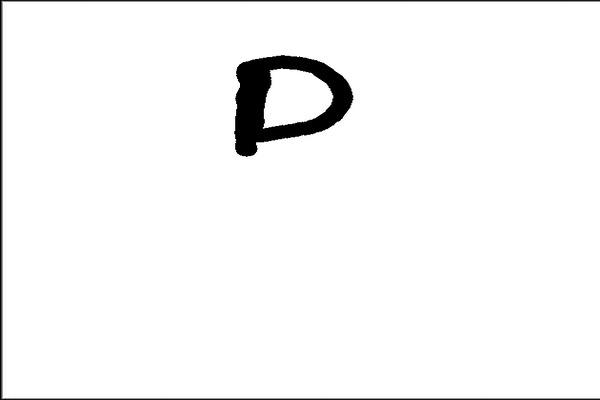D: (226, 49, 357, 159)
